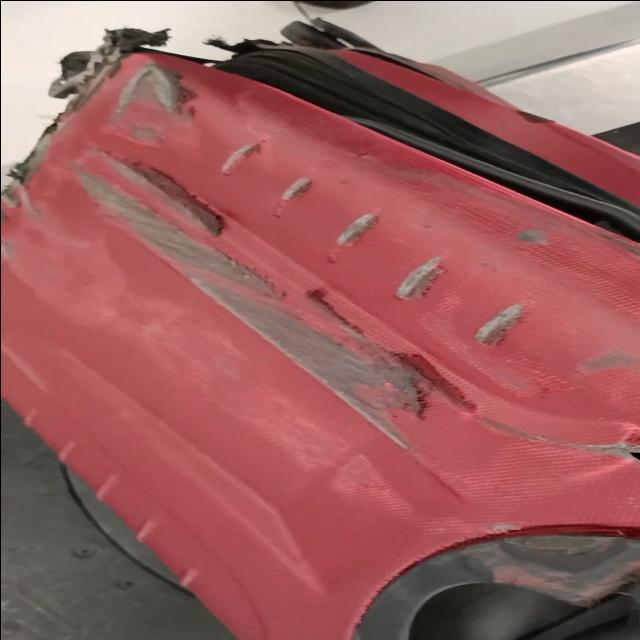Damage-bag: (71, 151, 640, 460), (2, 28, 213, 209), (473, 302, 522, 345), (396, 257, 442, 299), (336, 212, 376, 246), (222, 142, 258, 171), (282, 176, 311, 200), (211, 38, 258, 51), (516, 229, 544, 241), (7, 184, 22, 205), (329, 248, 338, 261)
